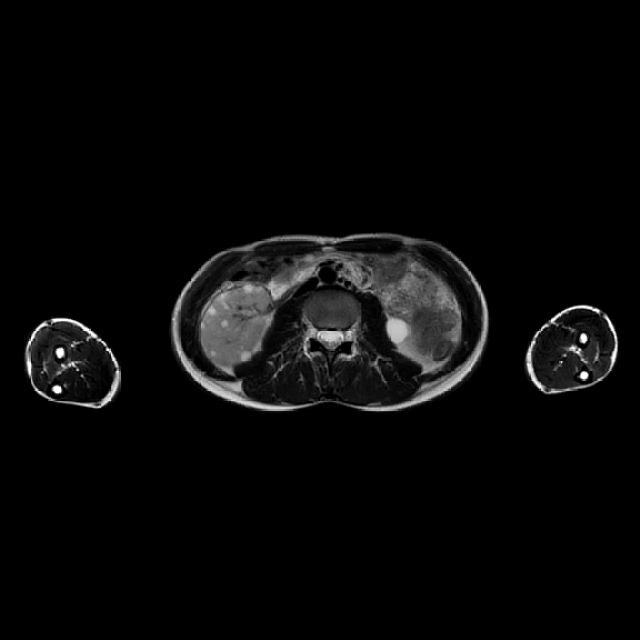sag: (200, 282, 272, 367)
sol: (385, 317, 412, 344)
